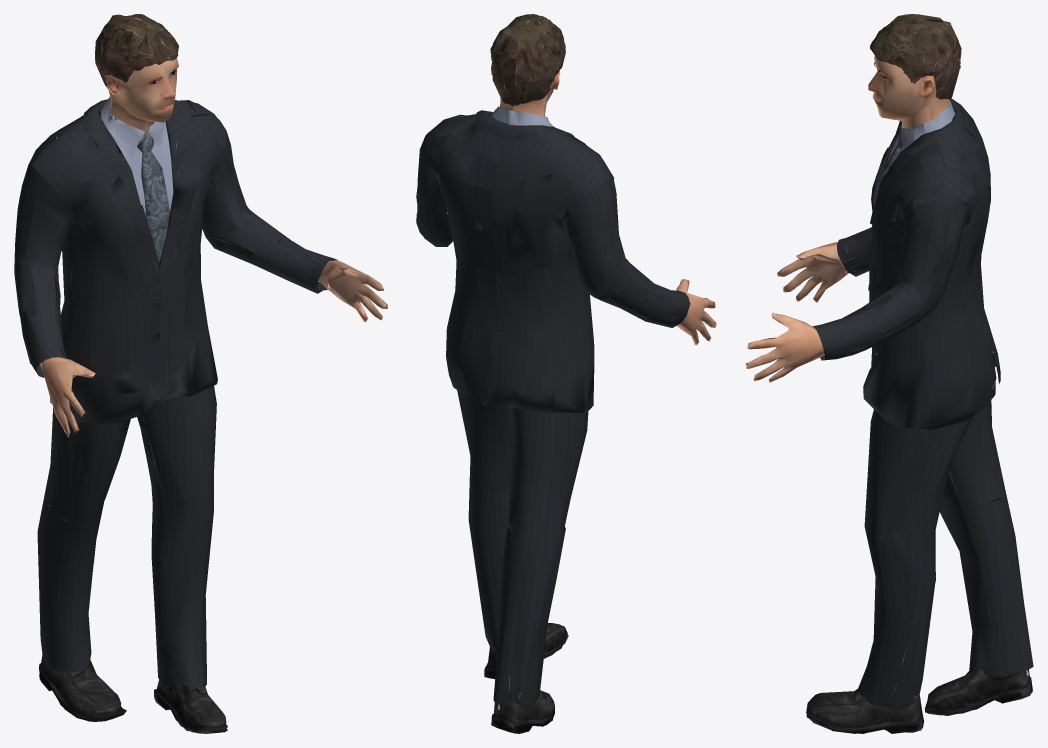
The picture shows the model from 3 angles, left to right: view 1: azimuth 30°, elevation 25°; view 2: azimuth 150°, elevation 25°; view 3: azimuth 270°, elevation 25°; orthographic projection. The views are drawn at different scales.
Parts seen in each view (by area): view 1: Modell; view 2: Modell; view 3: Modell.
Part boxes in pixels (<box>): Modell: <box>14,14,387,733</box>; Modell: <box>416,14,716,733</box>; Modell: <box>745,14,1033,733</box>.
Bounding box in the file's own units: 0.7906 × 1.77 × 0.6587.
Materials: 6 (6 with a texture image).
